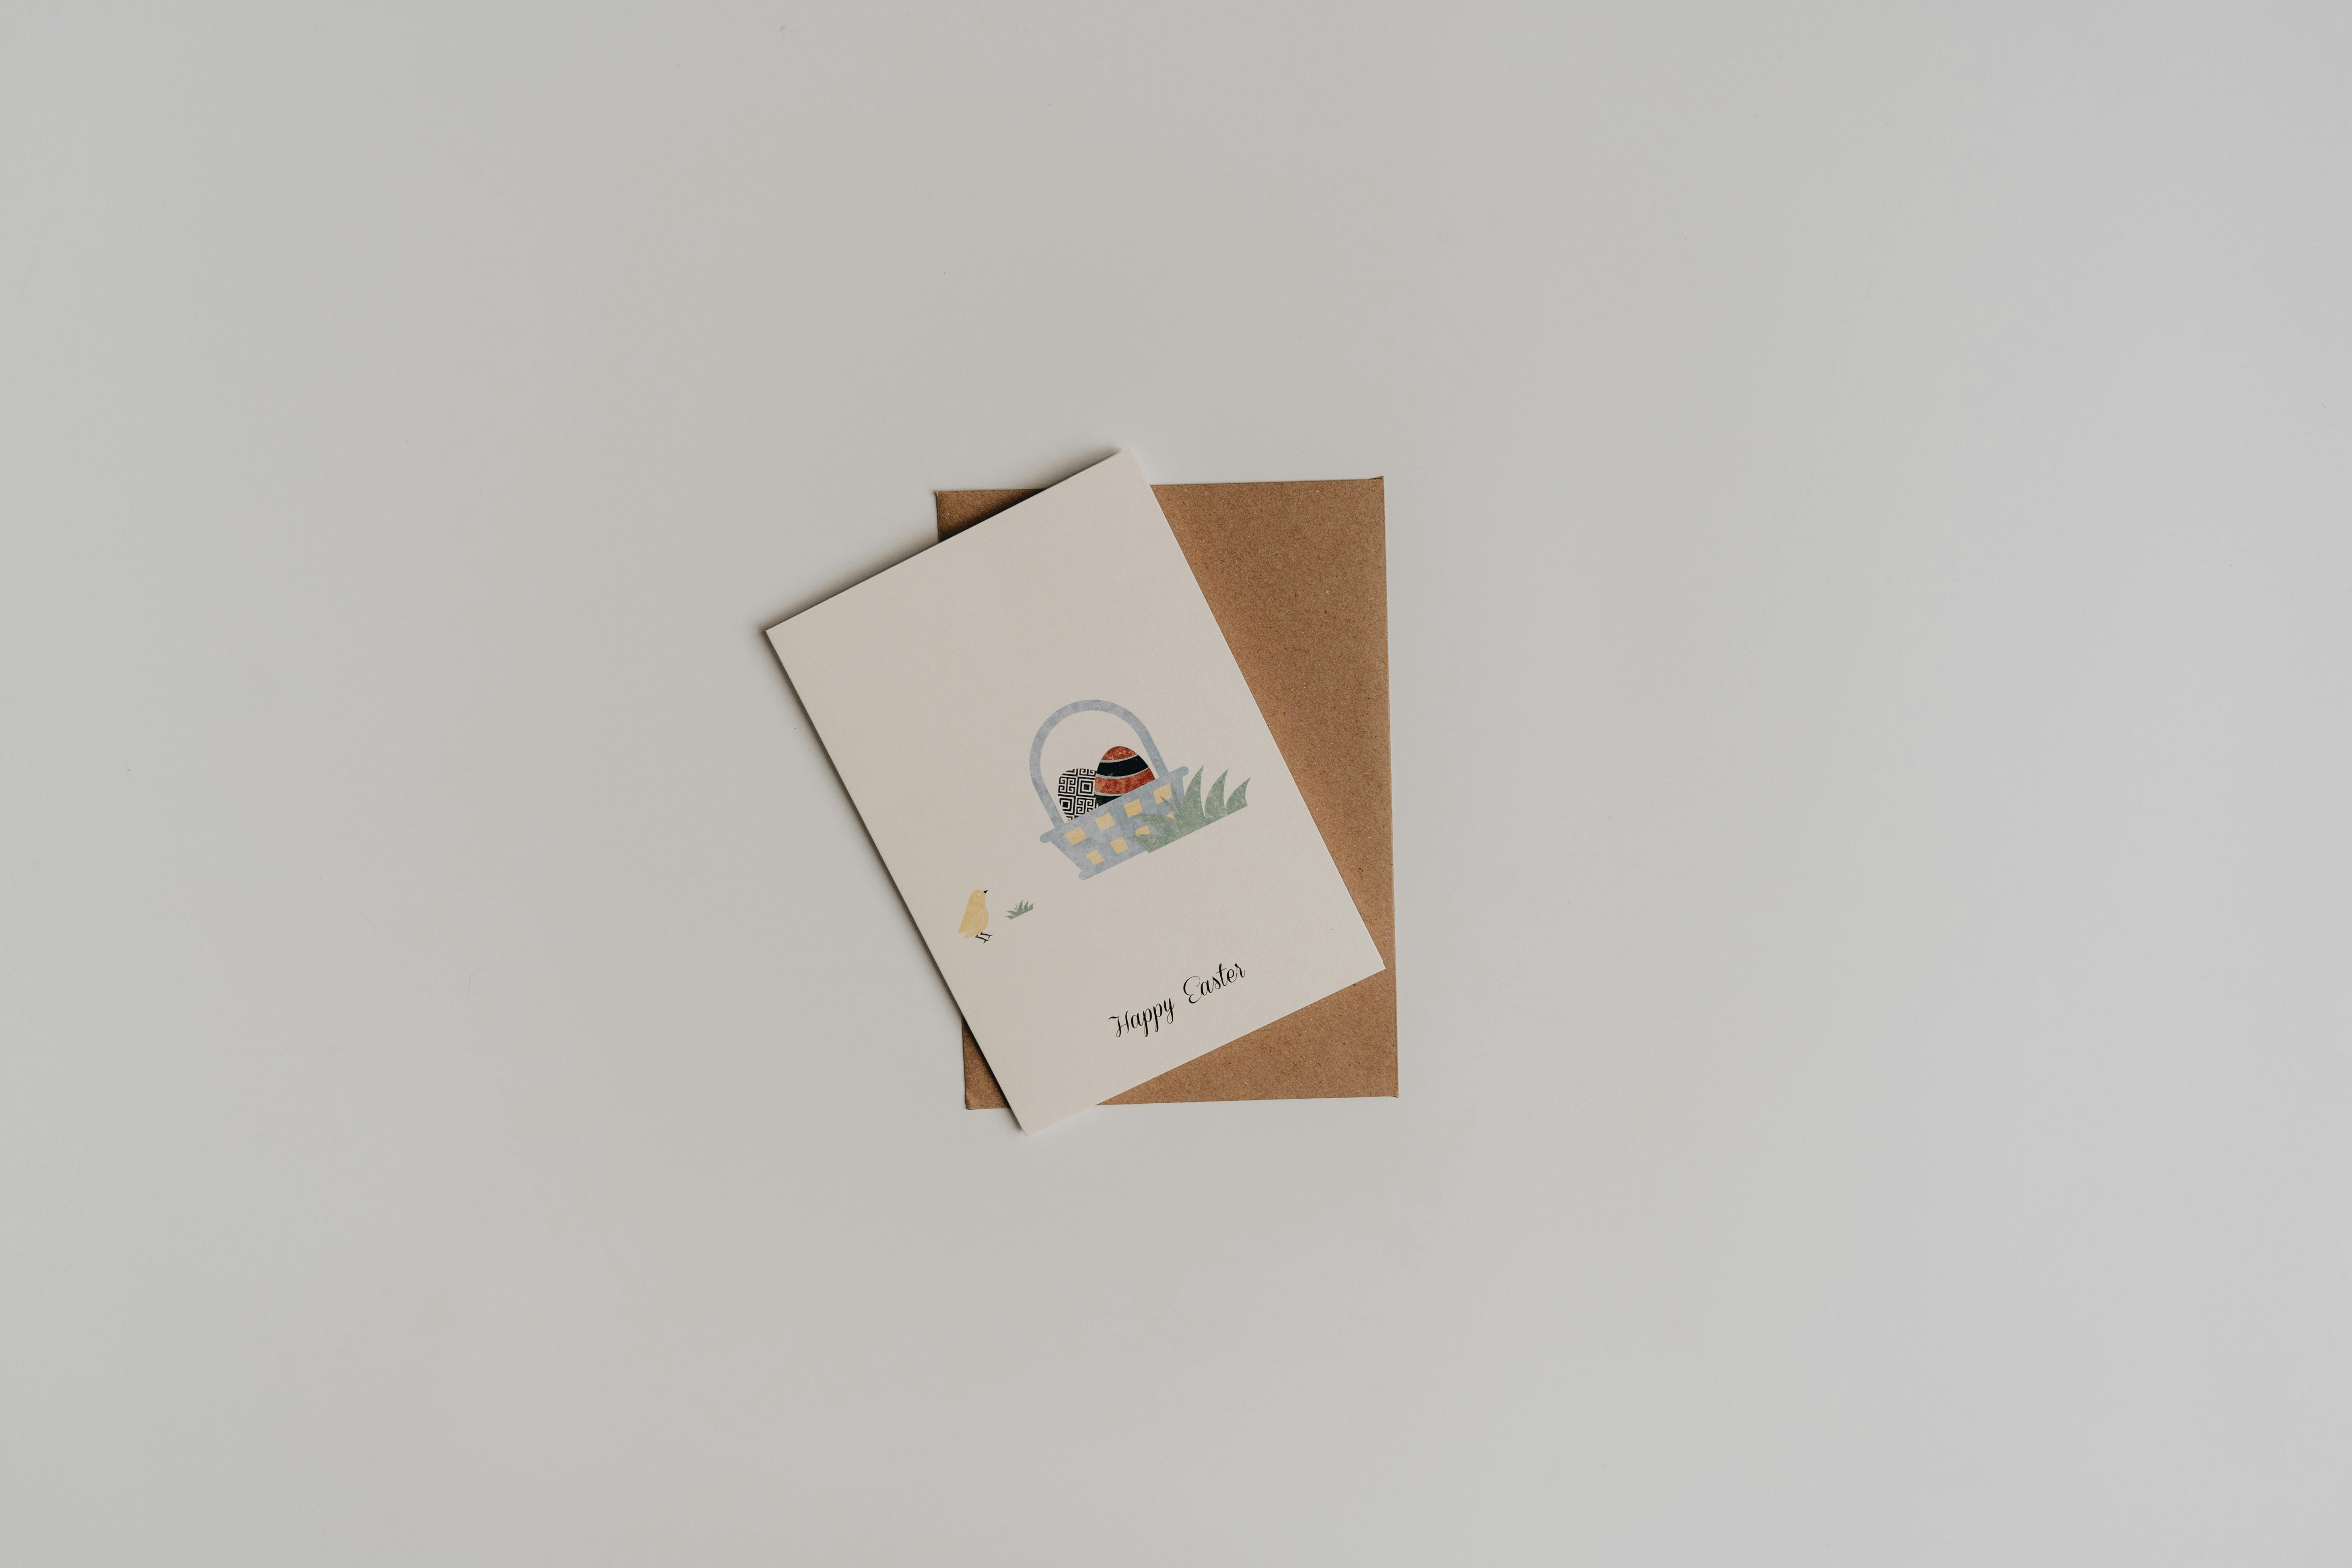book: (690, 446, 1426, 1164)
